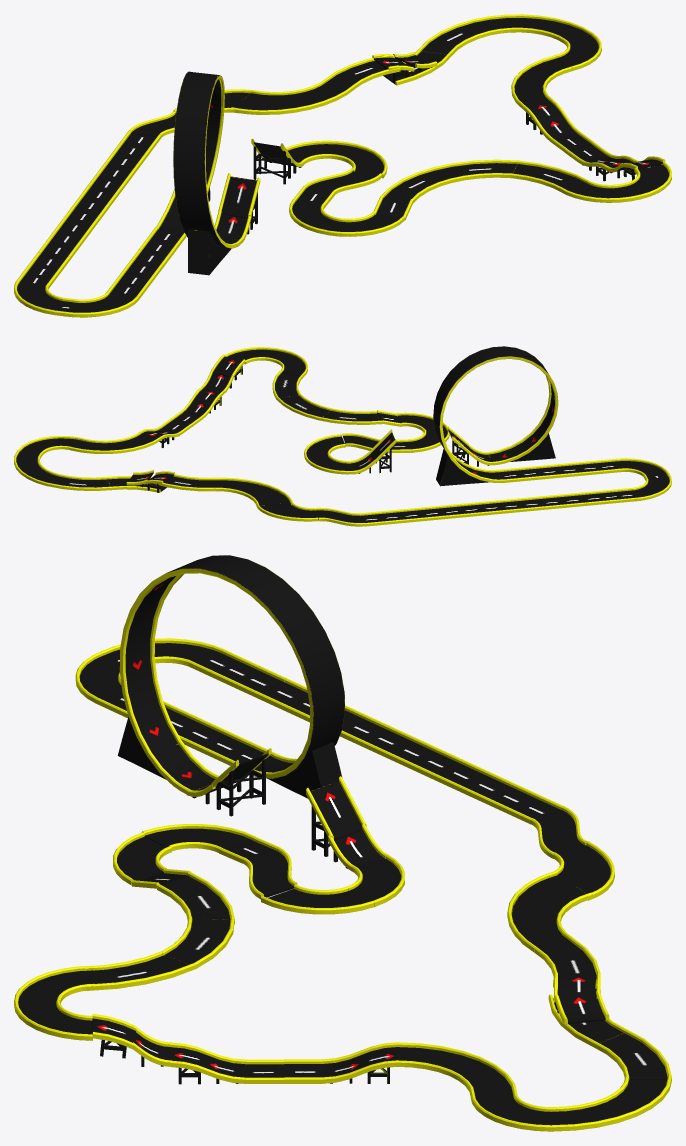
The model's file is Sample Race Track.fbx.
The picture shows the model from 3 angles, top to bottom: view 1: azimuth 30°, elevation 25°; view 2: azimuth 150°, elevation 25°; view 3: azimuth 270°, elevation 25°; orthographic projection. The views are drawn at different scales.
Visible parts, largest first — view 1: loop_object4__2_, runoff_curve3_object5__1_, curve3_object4__2_, curve3_object4__1_, jump2_object5__3_, angle_transition_object1__3_, angle_transition_object1__1_, angle_transition_object1__4_, angle_transition_object1__2_, curve2_object4__12_, curve2_object4__8_, curve2_object4__2_ (+29 smaller); view 2: loop_object4__2_, runoff_curve3_object5__1_, curve3_object4__1_, curve3_object4__2_, angle_transition_object1__1_, angle_transition_object1__4_, runoff_curve2_object5__2_, angle_transition_object1__3_, curve2_object4__1_, angle_transition_object1__6_, curve2_object4__11_, curve2_object4__5_ (+34 smaller); view 3: loop_object4__2_, runoff_curve3_object5__1_, curve3_object4__2_, curve3_object4__1_, jump2_object5__4_, angle_transition_object1__2_, angle_transition_object1__1_, runoff_curve2_object5__2_, curve2_object4__7_, angle_transition_object1__3_, curve2_object4__6_, angle_transition_object1__4_ (+34 smaller).
Boxes of the visible parts, left/top/right/bottom form: loop_object4__2_: left=156, top=71, right=242, bottom=275; runoff_curve3_object5__1_: left=231, top=79, right=355, bottom=114; curve3_object4__2_: left=474, top=14, right=592, bottom=43; curve3_object4__1_: left=511, top=55, right=571, bottom=109; jump2_object5__3_: left=218, top=173, right=260, bottom=229; angle_transition_object1__3_: left=431, top=159, right=518, bottom=182; angle_transition_object1__1_: left=419, top=19, right=490, bottom=55; angle_transition_object1__4_: left=382, top=166, right=452, bottom=203; angle_transition_object1__2_: left=511, top=160, right=586, bottom=191; curve2_object4__12_: left=559, top=179, right=641, bottom=202; curve2_object4__8_: left=327, top=211, right=404, bottom=236; curve2_object4__2_: left=63, top=292, right=138, bottom=317; loop_object4__2_: left=433, top=346, right=558, bottom=486; runoff_curve3_object5__1_: left=211, top=477, right=292, bottom=506; curve3_object4__1_: left=70, top=432, right=161, bottom=453; curve3_object4__2_: left=14, top=445, right=58, bottom=485; angle_transition_object1__1_: left=46, top=474, right=113, bottom=490; angle_transition_object1__4_: left=316, top=408, right=383, bottom=424; runoff_curve2_object5__2_: left=256, top=501, right=317, bottom=521; angle_transition_object1__3_: left=276, top=393, right=330, bottom=420; curve2_object4__1_: left=24, top=436, right=83, bottom=452; angle_transition_object1__6_: left=152, top=474, right=215, bottom=491; curve2_object4__11_: left=225, top=347, right=284, bottom=364; curve2_object4__5_: left=304, top=454, right=355, bottom=474; loop_object4__2_: left=117, top=555, right=344, bottom=798; runoff_curve3_object5__1_: left=507, top=871, right=592, bottom=952; curve3_object4__2_: left=551, top=1076, right=671, bottom=1131; curve3_object4__1_: left=397, top=1042, right=516, bottom=1095; jump2_object5__4_: left=306, top=776, right=366, bottom=856; angle_transition_object1__2_: left=83, top=951, right=196, bottom=990; angle_transition_object1__1_: left=594, top=1029, right=671, bottom=1080; runoff_curve2_object5__2_: left=549, top=841, right=614, bottom=900; curve2_object4__7_: left=141, top=824, right=255, bottom=853; angle_transition_object1__3_: left=162, top=915, right=234, bottom=969; curve2_object4__6_: left=261, top=884, right=374, bottom=914; angle_transition_object1__4_: left=157, top=871, right=234, bottom=923.
Size of the model in its own units: 1443078 by 346866 by 847960.
